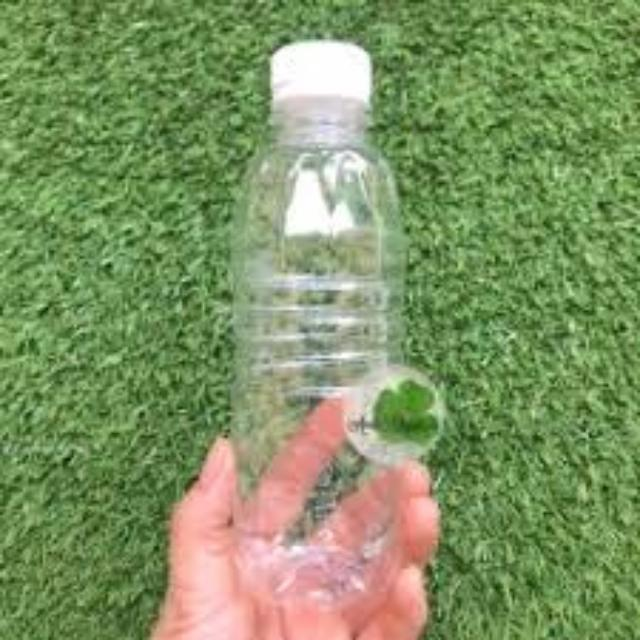trash: (224, 33, 418, 623)
